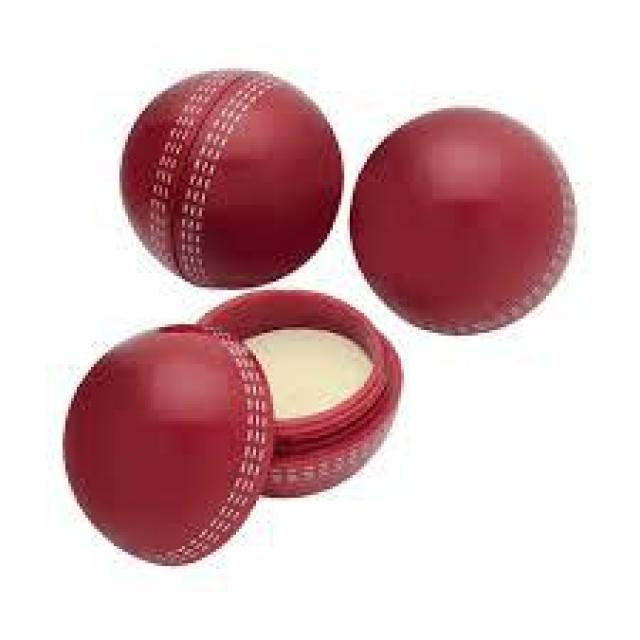ball: (353, 108, 577, 339), (120, 68, 342, 290)
